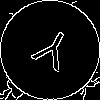Y: (25, 25, 77, 81)
